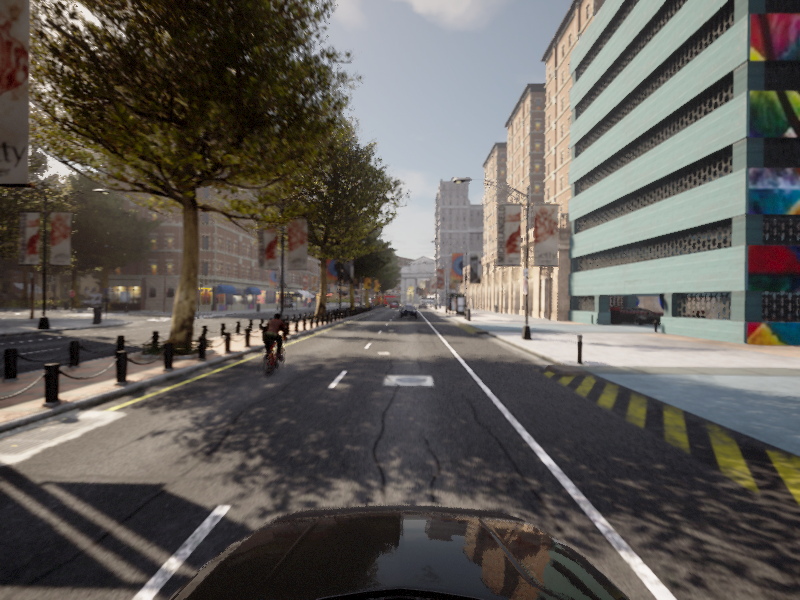vehicle: (251, 312, 295, 381), (399, 305, 417, 318)
